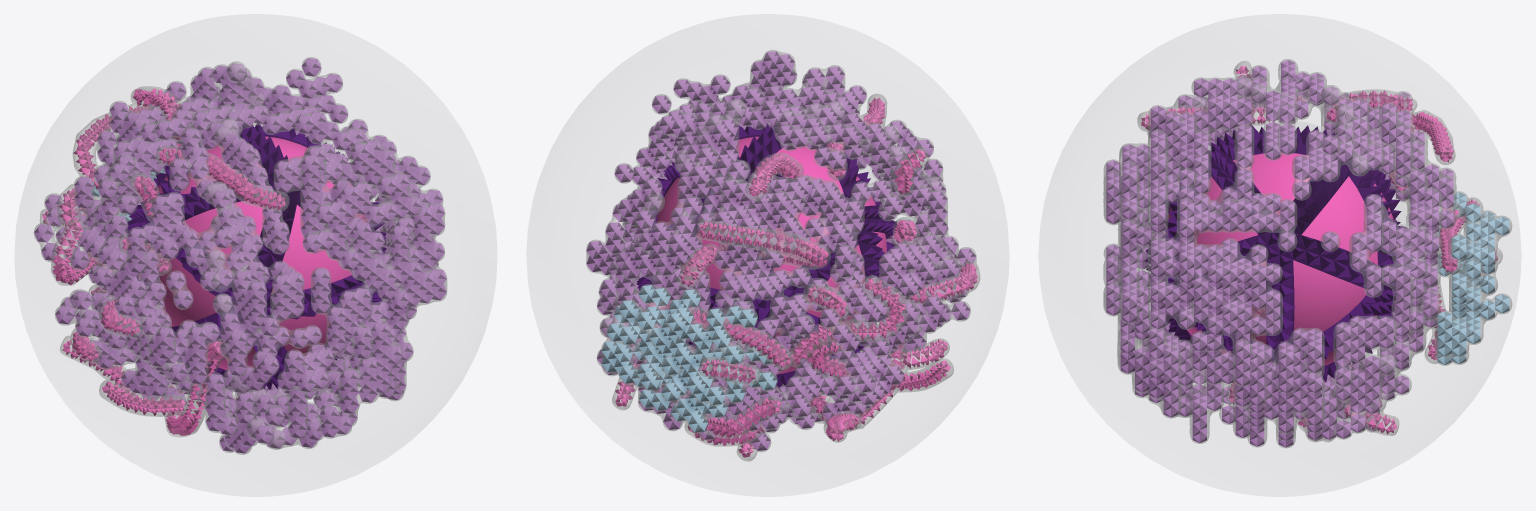
Rendered from con_Cell.fbx.
3 views of the same model, side by side, from view 1: azimuth 30°, elevation 25°; view 2: azimuth 150°, elevation 25°; view 3: azimuth 270°, elevation 25° (orthographic).
Visible parts, largest first — view 1: ER_hiddenMembrane, ER_hidden, ER1, ERMembrane2, ERMembrane1, MitoMembrane, Mito, nucleus_834, NucleusCore; view 2: ER1, ERMembrane1, MitoMembrane, ER_hiddenMembrane, ERMembrane2, ER_hidden, Mito, GolgiMembrane, Golgi, nucleus_834, NucleusCore; view 3: ER_hiddenMembrane, ER_hidden, ER1, ERMembrane2, nucleus_834, NucleusCore, GolgiMembrane, Golgi, MitoMembrane, Mito, ERMembrane1.
Part boxes in pixels (bbox=[...]): ER_hiddenMembrane: bbox=[204, 57, 447, 449]; ER_hidden: bbox=[208, 58, 446, 448]; ER1: bbox=[34, 63, 286, 453]; ERMembrane2: bbox=[134, 61, 284, 454]; ERMembrane1: bbox=[33, 81, 190, 395]; MitoMembrane: bbox=[39, 86, 289, 437]; Mito: bbox=[42, 88, 285, 435]; nucleus_834: bbox=[125, 123, 386, 389]; NucleusCore: bbox=[138, 136, 366, 370]; ER1: bbox=[606, 101, 975, 450]; ERMembrane1: bbox=[656, 160, 970, 431]; MitoMembrane: bbox=[612, 93, 980, 461]; ER_hiddenMembrane: bbox=[586, 50, 948, 376]; ERMembrane2: bbox=[599, 99, 976, 452]; ER_hidden: bbox=[586, 51, 947, 374]; Mito: bbox=[615, 97, 977, 457]; GolgiMembrane: bbox=[601, 283, 777, 433]; Golgi: bbox=[601, 285, 777, 432]; nucleus_834: bbox=[636, 124, 896, 388]; NucleusCore: bbox=[656, 136, 886, 373]; ER_hiddenMembrane: bbox=[1103, 77, 1396, 448]; ER_hidden: bbox=[1106, 78, 1393, 447]; ER1: bbox=[1149, 60, 1453, 441]; ERMembrane2: bbox=[1192, 59, 1442, 442]; nucleus_834: bbox=[1145, 125, 1413, 382]; NucleusCore: bbox=[1165, 153, 1398, 365]; GolgiMembrane: bbox=[1434, 191, 1512, 365]; Golgi: bbox=[1437, 192, 1509, 364]; MitoMembrane: bbox=[1137, 60, 1502, 442]; Mito: bbox=[1141, 66, 1497, 434]; ERMembrane1: bbox=[1295, 91, 1456, 358].
Size of the model in its own units: 24376 by 24376 by 24376.
